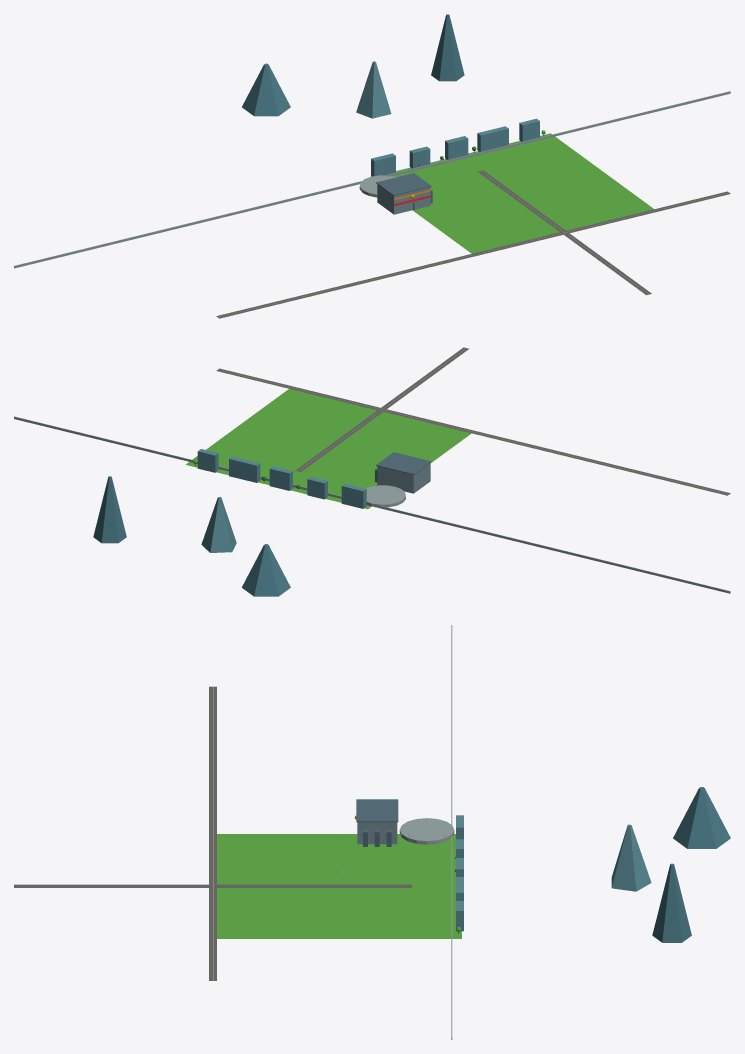
File: sector_r0_c2.glb
3 renders of one model, top to bottom at view 1: azimuth 30°, elevation 25°; view 2: azimuth 150°, elevation 25°; view 3: azimuth 270°, elevation 25°, orthographic. The views are drawn at different scales.
Visible parts, largest first — view 1: GROUND_r0_c2, WALL_Boundary_N, ROAD_District_EW_1, MOUNTAIN_10, MOUNTAIN_8, MOUNTAIN_9, ROAD_District_NS_4, LANDMARK_Gym_Main, BUILDING_Gym_Roof, WALL_NorthCliff_13, WALL_NorthCliff_10; view 2: GROUND_r0_c2, ROAD_District_EW_1, WALL_Boundary_N, MOUNTAIN_10, MOUNTAIN_8, MOUNTAIN_9, ROAD_District_NS_4, LANDMARK_Gym_Main, BUILDING_Stadium_Tier_3, BUILDING_Gym_Roof, WALL_NorthCliff_13, WALL_NorthCliff_10 (+2 smaller); view 3: GROUND_r0_c2, ROAD_District_EW_1, MOUNTAIN_10, MOUNTAIN_8, MOUNTAIN_9, ROAD_District_NS_4, BUILDING_Stadium_Tier_3, BUILDING_Gym_Roof, WALL_Boundary_N, LANDMARK_Gym_Main.
Part boxes in pixels (x1=…): GROUND_r0_c2: x1=393, y1=133, x2=653, y2=253; WALL_Boundary_N: x1=14, y1=91, x2=730, y2=268; ROAD_District_EW_1: x1=216, y1=191, x2=730, y2=318; MOUNTAIN_10: x1=242, y1=63, x2=290, y2=116; MOUNTAIN_8: x1=431, y1=14, x2=464, y2=81; MOUNTAIN_9: x1=356, y1=61, x2=391, y2=118; ROAD_District_NS_4: x1=478, y1=170, x2=651, y2=295; LANDMARK_Gym_Main: x1=377, y1=184, x2=430, y2=214; BUILDING_Gym_Roof: x1=376, y1=173, x2=431, y2=195; WALL_NorthCliff_13: x1=477, y1=126, x2=508, y2=151; WALL_NorthCliff_10: x1=371, y1=153, x2=395, y2=176; GROUND_r0_c2: x1=185, y1=389, x2=471, y2=509; ROAD_District_EW_1: x1=216, y1=368, x2=730, y2=495; WALL_Boundary_N: x1=14, y1=416, x2=730, y2=593; MOUNTAIN_10: x1=242, y1=544, x2=290, y2=596; MOUNTAIN_8: x1=93, y1=476, x2=126, y2=543; MOUNTAIN_9: x1=201, y1=497, x2=236, y2=552; ROAD_District_NS_4: x1=295, y1=347, x2=468, y2=472; LANDMARK_Gym_Main: x1=377, y1=463, x2=430, y2=493; BUILDING_Stadium_Tier_3: x1=366, y1=485, x2=405, y2=507; BUILDING_Gym_Roof: x1=376, y1=452, x2=431, y2=474; WALL_NorthCliff_13: x1=229, y1=456, x2=260, y2=482; WALL_NorthCliff_10: x1=341, y1=483, x2=366, y2=508; GROUND_r0_c2: x1=217, y1=834, x2=461, y2=938; ROAD_District_EW_1: x1=209, y1=686, x2=216, y2=980; MOUNTAIN_10: x1=673, y1=787, x2=730, y2=848; MOUNTAIN_8: x1=652, y1=863, x2=691, y2=942; MOUNTAIN_9: x1=611, y1=824, x2=651, y2=891; ROAD_District_NS_4: x1=14, y1=884, x2=411, y2=887; BUILDING_Stadium_Tier_3: x1=399, y1=818, x2=454, y2=844; BUILDING_Gym_Roof: x1=356, y1=799, x2=398, y2=822; WALL_Boundary_N: x1=451, y1=625, x2=452, y2=1039; LANDMARK_Gym_Main: x1=357, y1=822, x2=397, y2=844.
Bounding box in the file's own units: 980 × 78.97 × 720.
